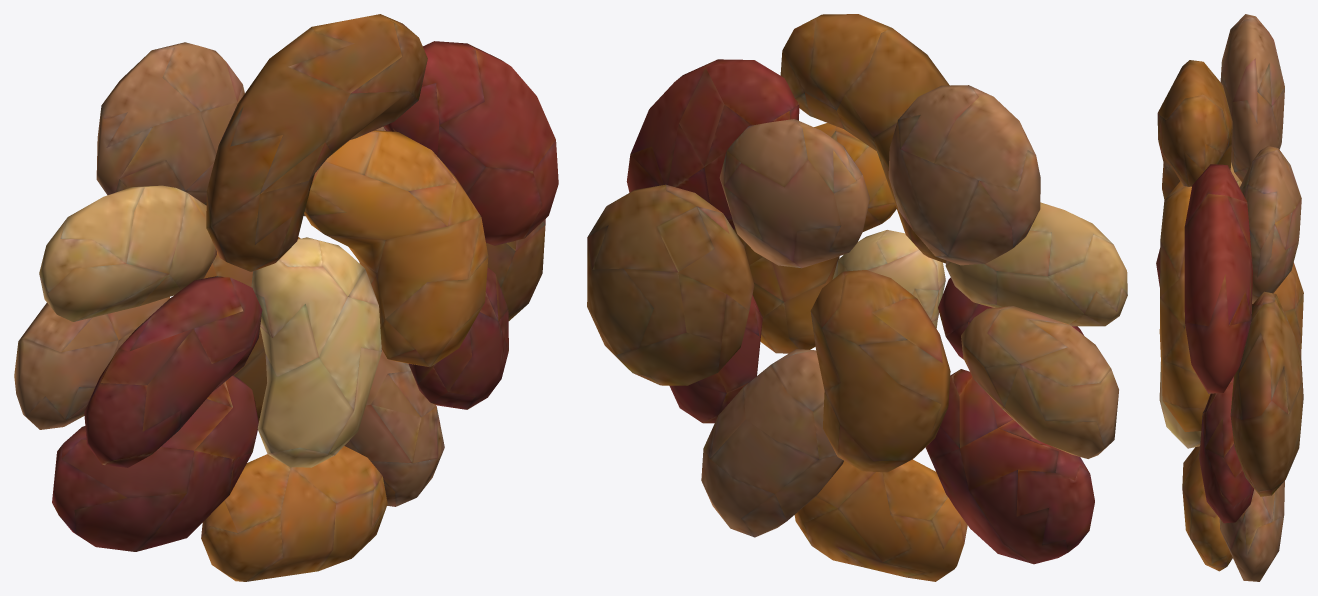
Rendered from beans.glb.
3 views of the same model, side by side, from view 1: azimuth 30°, elevation 25°; view 2: azimuth 150°, elevation 25°; view 3: azimuth 270°, elevation 25° (orthographic). The views are drawn at different scales.
Parts seen in each view (by area): view 1: geometry_0; view 2: geometry_0; view 3: geometry_0.
Part boxes in pixels (left/top/right/bottom): geometry_0: left=14, top=14, right=558, bottom=581; geometry_0: left=587, top=14, right=1127, bottom=581; geometry_0: left=1156, top=14, right=1303, bottom=581.
Bounding box in the file's own units: 1 × 0.9929 × 0.2677.
Materials: 1 (1 with a texture image).
